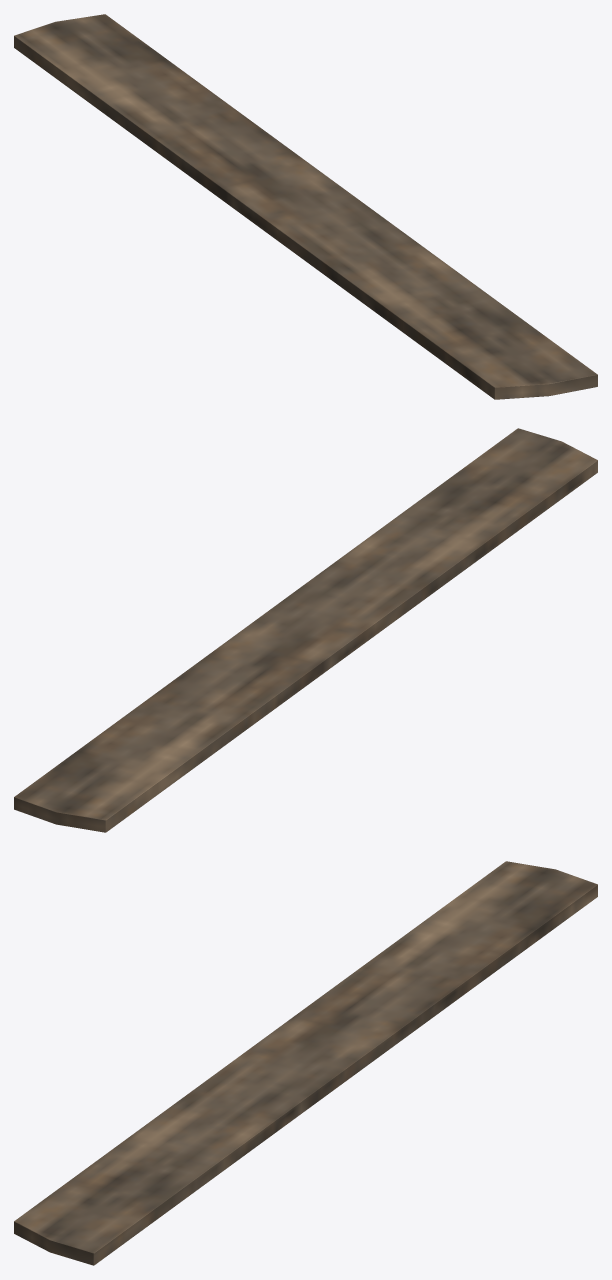
The model's file is Planche5.glb.
3 views of the same model, one above another, from view 1: azimuth 30°, elevation 25°; view 2: azimuth 150°, elevation 25°; view 3: azimuth 330°, elevation 25° (orthographic). The views are drawn at different scales.
Parts seen in each view (by area): view 1: plank_05_Planks_SHD_0; view 2: plank_05_Planks_SHD_0; view 3: plank_05_Planks_SHD_0.
Part boxes in pixels (x1,y1,x2,y2): plank_05_Planks_SHD_0: [14, 14, 597, 399]; plank_05_Planks_SHD_0: [14, 428, 597, 832]; plank_05_Planks_SHD_0: [14, 861, 597, 1265].
Size of the model in its own units: 0.6894 by 0.09 by 6.53.
Materials: 1 (1 with a texture image).
